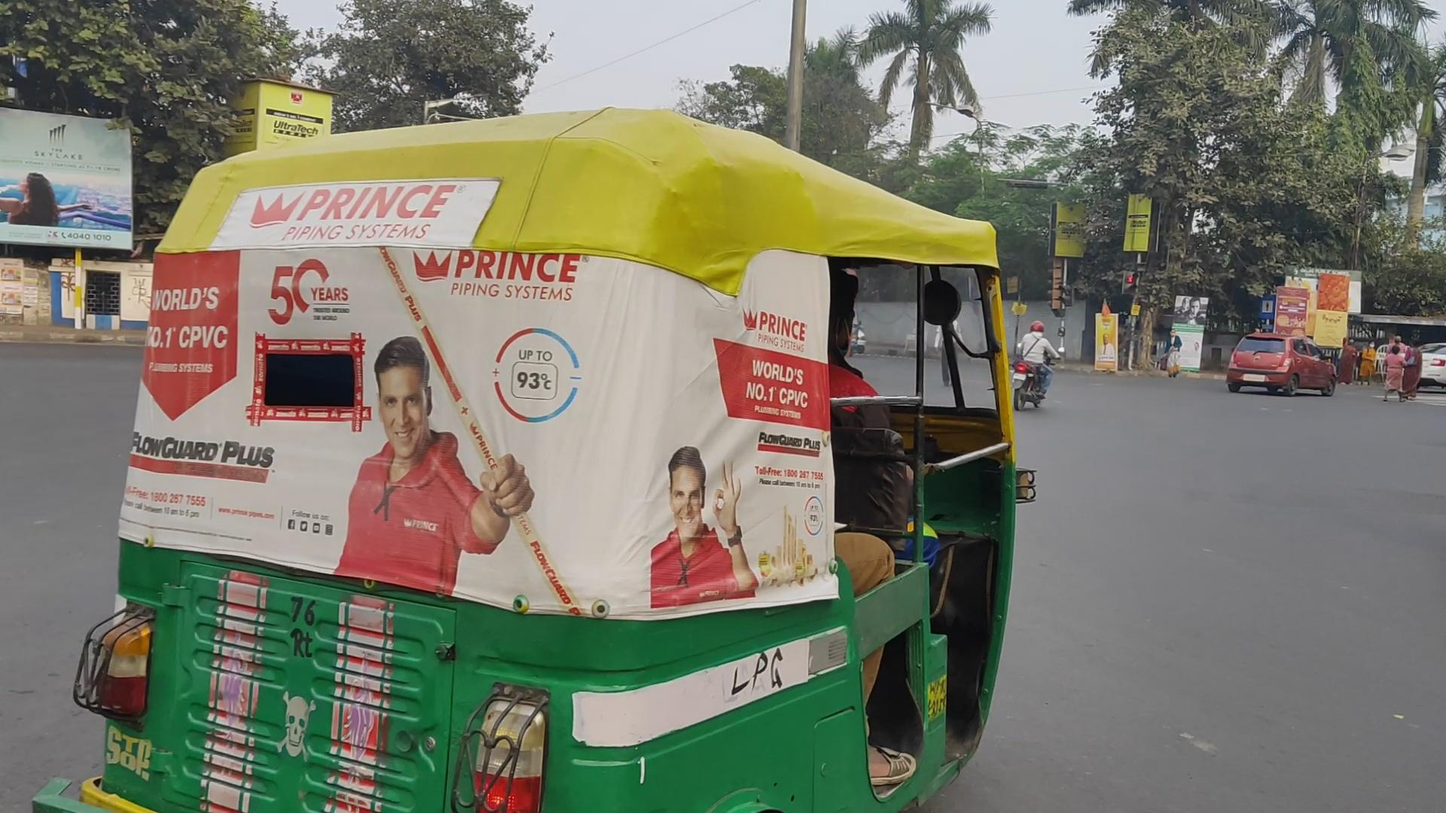Auto: (32, 108, 1036, 813)
bike: (1009, 320, 1065, 412)
car: (1227, 332, 1338, 397)
